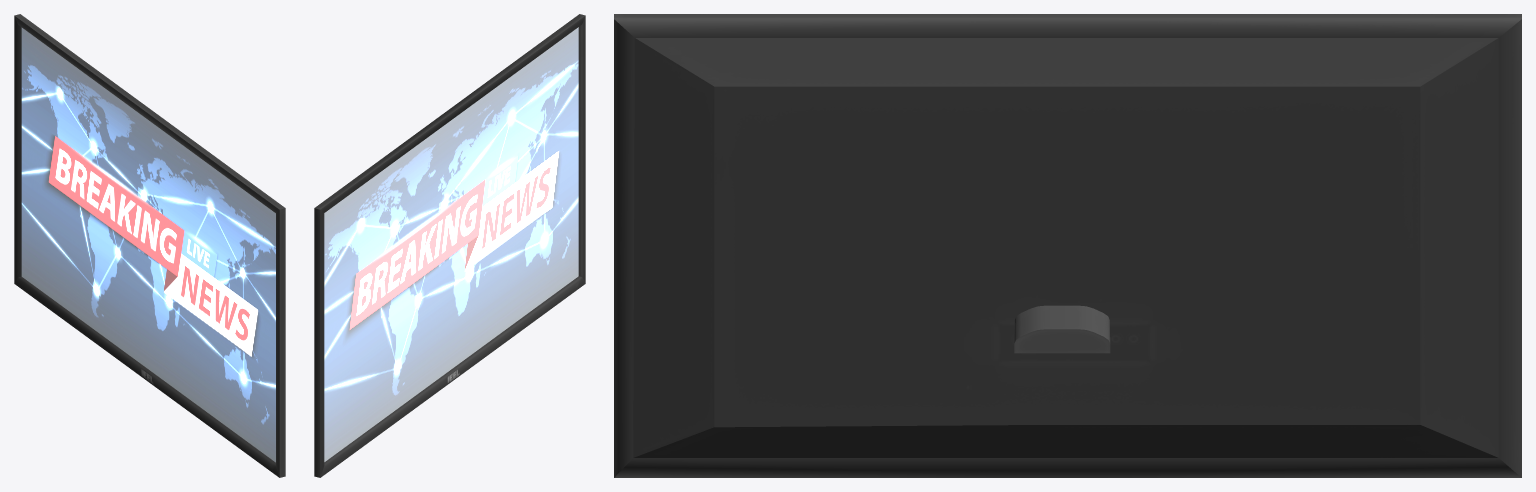
3 renders of one model, left to right at view 1: azimuth 30°, elevation 25°; view 2: azimuth 150°, elevation 25°; view 3: azimuth 270°, elevation 25°, orthographic. The views are drawn at different scales.
Visible parts, largest first — view 1: SM_TV_A2; view 2: SM_TV_A2; view 3: SM_TV_A2.
Boxes of the visible parts, left/top/right/bottom form: SM_TV_A2: left=14, top=14, right=285, bottom=477; SM_TV_A2: left=314, top=14, right=585, bottom=477; SM_TV_A2: left=614, top=14, right=1521, bottom=477.
Bounding box in the file's own units: 14.64 × 143 × 80.02.
Materials: 2 (1 with a texture image).
